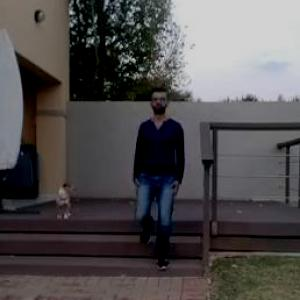follow: (139, 85, 185, 268)
